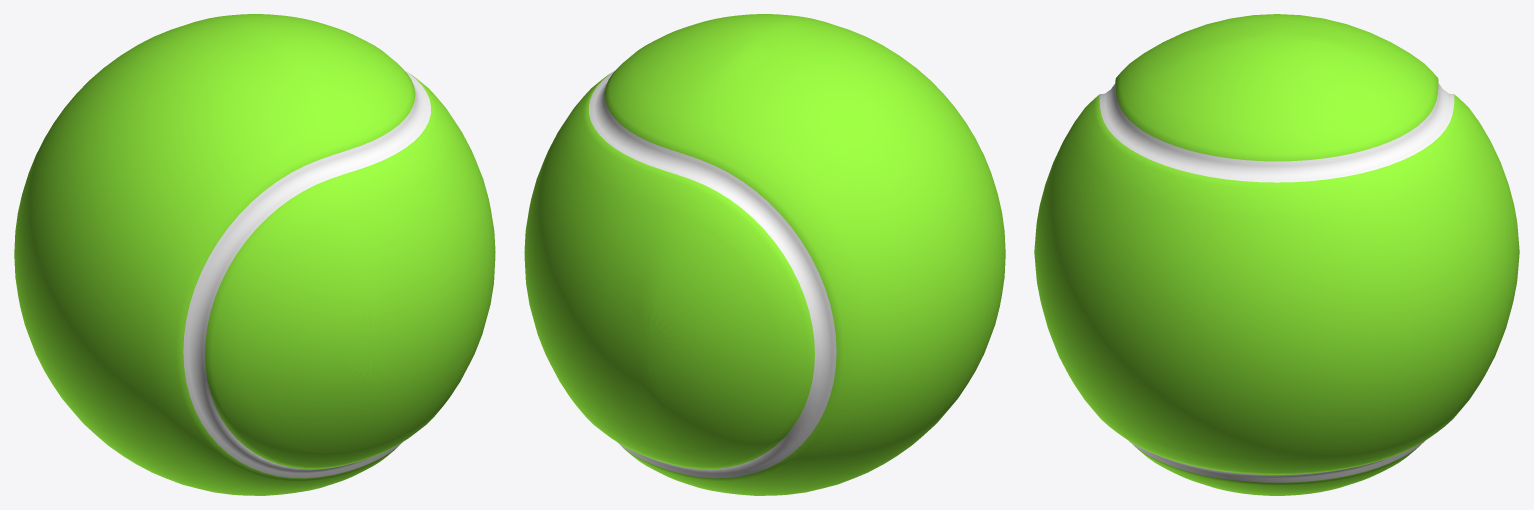
File: tennis.glb
3 renders of one model, left to right at view 1: azimuth 30°, elevation 25°; view 2: azimuth 150°, elevation 25°; view 3: azimuth 270°, elevation 25°, orthographic.
Parts seen in each view (by area): view 1: Tennis.001; view 2: Tennis.001; view 3: Tennis.001.
Boxes of the visible parts, box(x1,y1,x2,y2) form: Tennis.001: box(14, 14, 495, 495); Tennis.001: box(524, 14, 1005, 495); Tennis.001: box(1034, 14, 1519, 495).
Bounding box in the file's own units: 1.98 × 2 × 2.
